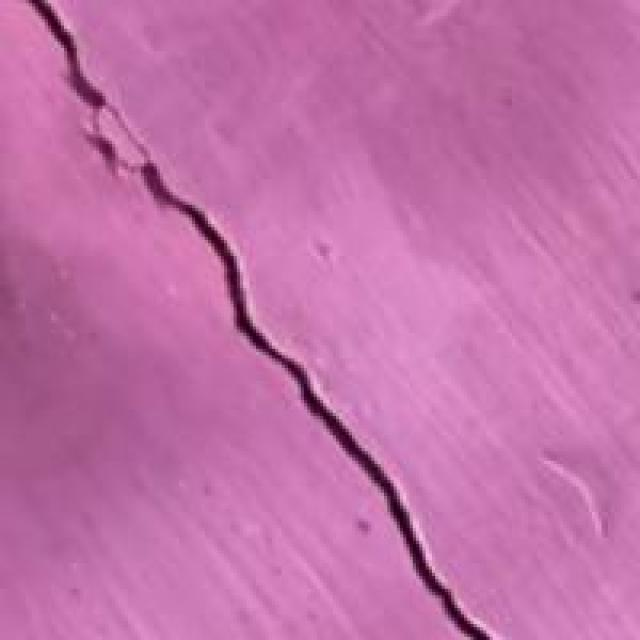Crack: (42, 0, 464, 637)
